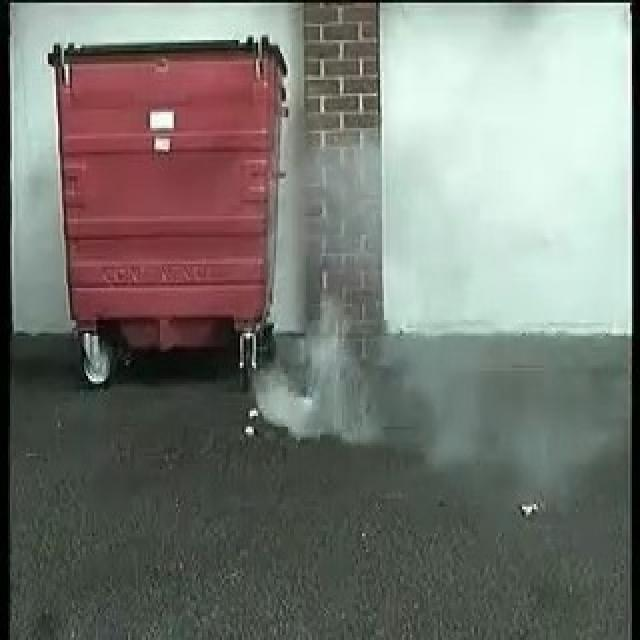smoke: (260, 263, 489, 450)
